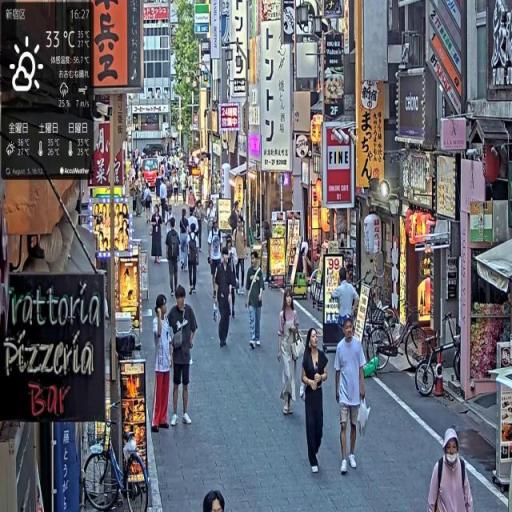person: (335, 316, 368, 479), (302, 325, 331, 478), (168, 284, 199, 427), (428, 424, 475, 512), (278, 287, 305, 418), (153, 293, 175, 434), (214, 247, 239, 351), (244, 249, 267, 356), (167, 218, 182, 299), (209, 223, 224, 300), (187, 220, 201, 297), (151, 204, 164, 264), (180, 207, 192, 272)
